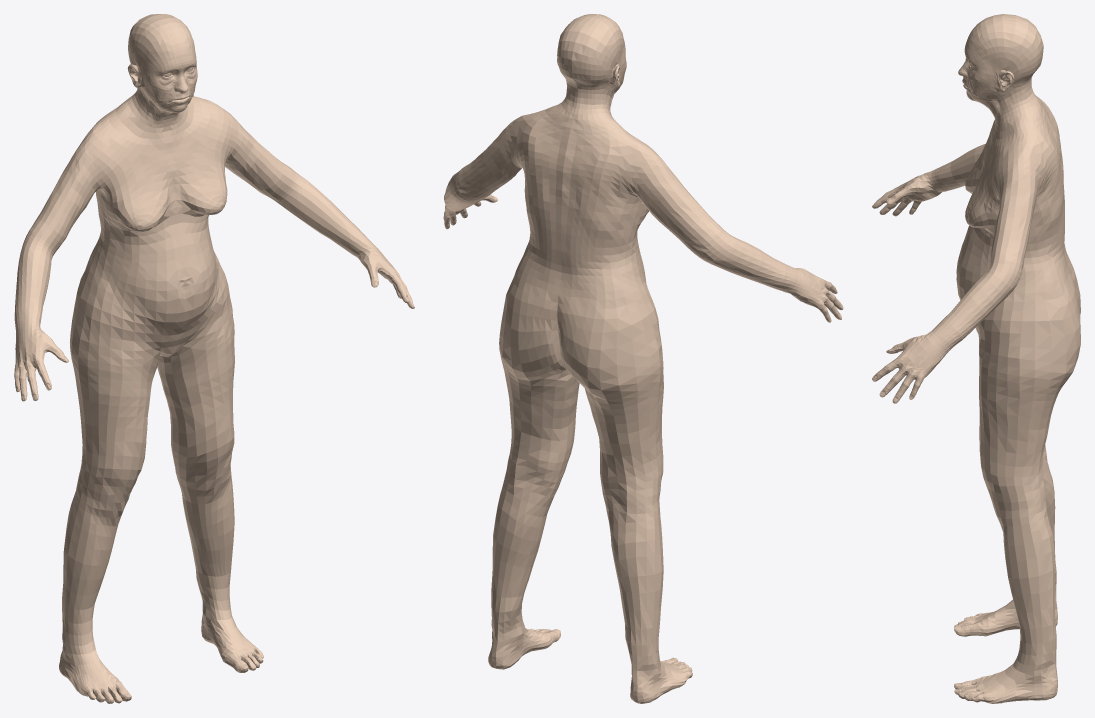
Rendered from female-elder-max-toned.glb.
3 views of the same model, side by side, from view 1: azimuth 30°, elevation 25°; view 2: azimuth 150°, elevation 25°; view 3: azimuth 270°, elevation 25° (orthographic).
Parts seen in each view (by area): view 1: world; view 2: world; view 3: world.
Boxes of the visible parts, x1,y1,x2,y2 form: world: (14,14,414,703); world: (443,14,843,703); world: (872,14,1080,703).
Bounding box in the file's own units: 1.13 × 1.8 × 0.527.
